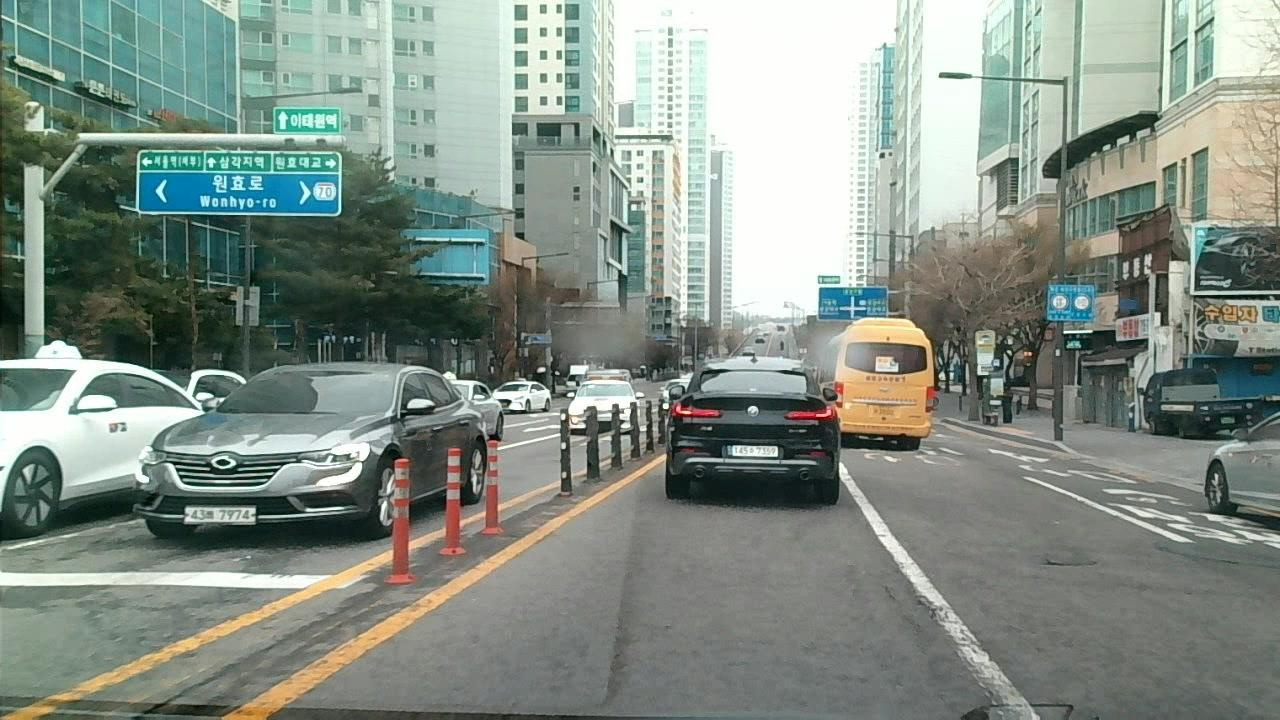banner: (131, 614, 319, 720), (911, 583, 940, 618)
